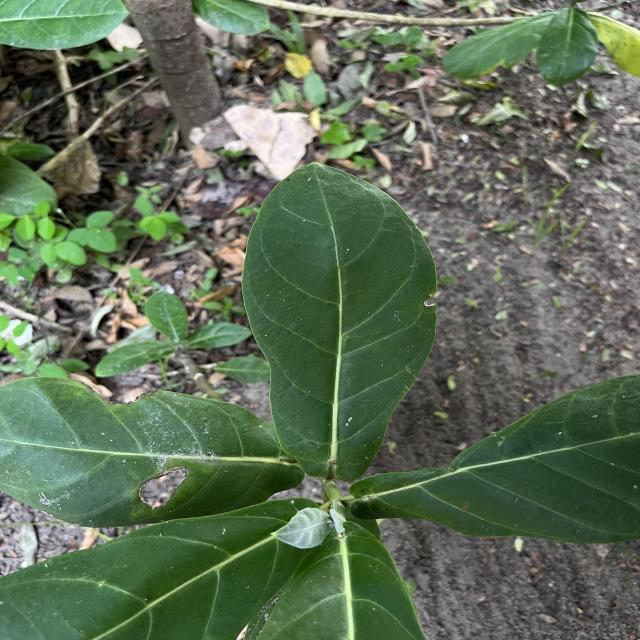Calotropis gigantea: (238, 160, 442, 483), (353, 373, 640, 543), (0, 374, 299, 530), (3, 496, 324, 640)
